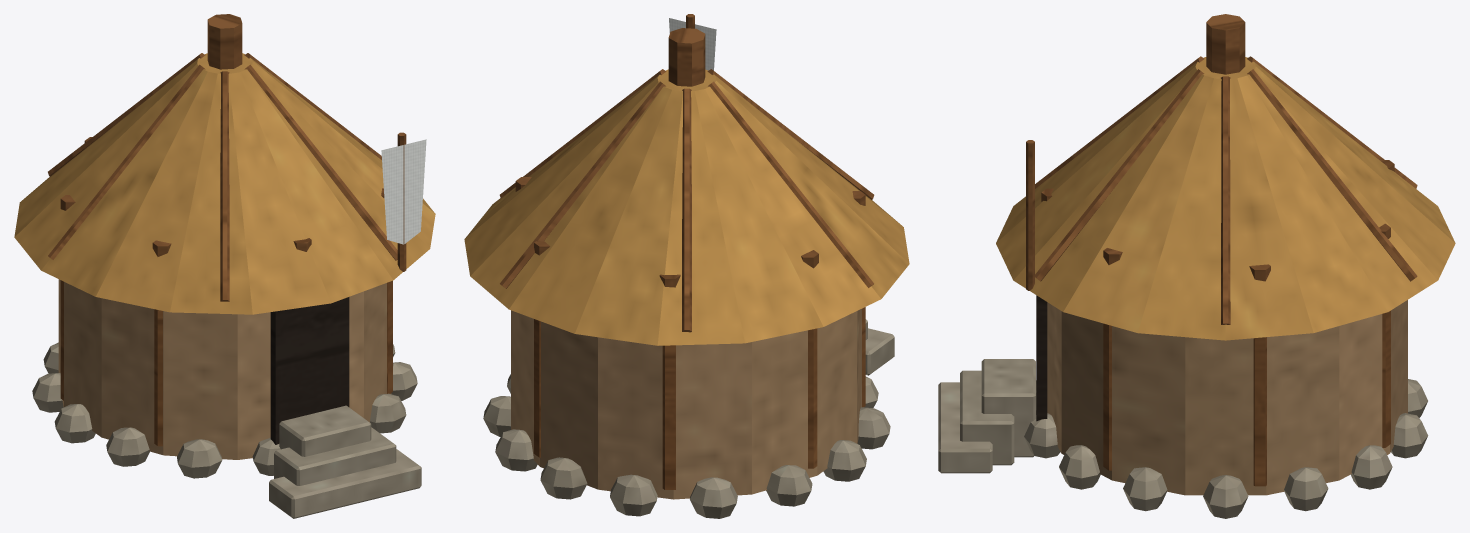
File: edificio-house-e0-DaTMJ3S5.glb
3 views of the same model, side by side, from view 1: azimuth 30°, elevation 25°; view 2: azimuth 150°, elevation 25°; view 3: azimuth 270°, elevation 25° (orthographic). The views are drawn at different scales.
Visible parts, largest first — view 1: casa_e0_envolvente, casa_e0_detalles, casa_e0_team_color; view 2: casa_e0_envolvente, casa_e0_detalles, casa_e0_team_color; view 3: casa_e0_envolvente, casa_e0_detalles.
Part boxes in pixels (x1,y1,x2,y2): casa_e0_envolvente: (14, 53, 435, 518); casa_e0_detalles: (48, 14, 406, 446); casa_e0_team_color: (381, 139, 426, 244); casa_e0_envolvente: (464, 69, 909, 518); casa_e0_detalles: (499, 14, 874, 489); casa_e0_team_color: (669, 18, 716, 70); casa_e0_envolvente: (938, 57, 1455, 518); casa_e0_detalles: (1026, 14, 1417, 486).
Size of the model in its own units: 42.4 by 42.5 by 47.7.
Materials: 3 (3 with a texture image).
